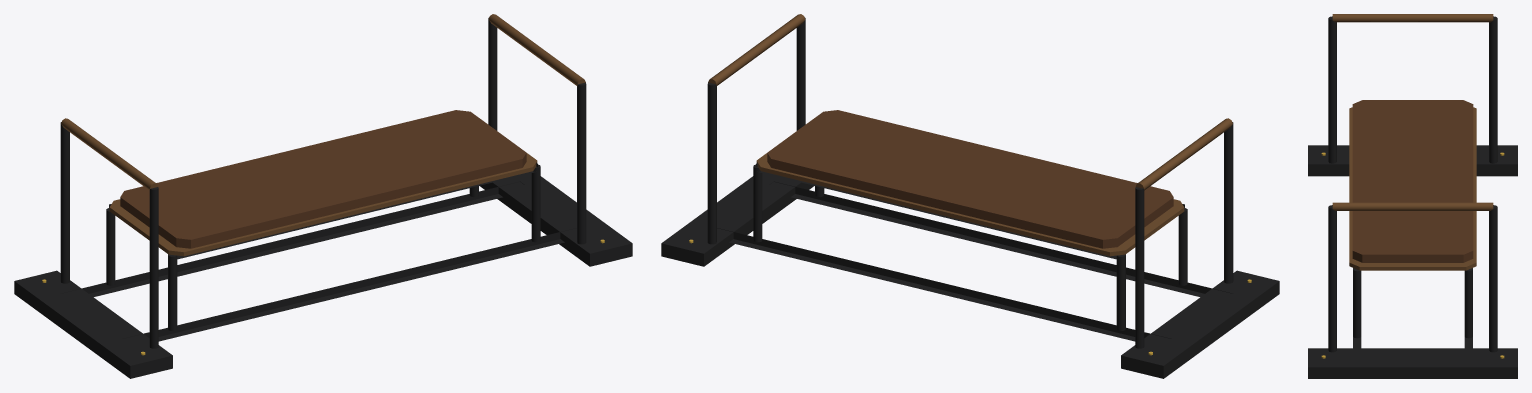
The picture shows the model from 3 angles, left to right: view 1: azimuth 30°, elevation 25°; view 2: azimuth 150°, elevation 25°; view 3: azimuth 270°, elevation 25°; orthographic projection. The views are drawn at different scales.
Visible parts, largest first — view 1: parametric-variant-machine-1st-pub-d78170cf78cc232272c5; view 2: parametric-variant-machine-1st-pub-d78170cf78cc232272c5; view 3: parametric-variant-machine-1st-pub-d78170cf78cc232272c5.
Part boxes in pixels (bbox=[...]): parametric-variant-machine-1st-pub-d78170cf78cc232272c5: bbox=[14, 14, 632, 378]; parametric-variant-machine-1st-pub-d78170cf78cc232272c5: bbox=[661, 14, 1279, 378]; parametric-variant-machine-1st-pub-d78170cf78cc232272c5: bbox=[1308, 14, 1517, 378].
Bounding box in the file's own units: 2.82 × 0.947 × 1.13.
